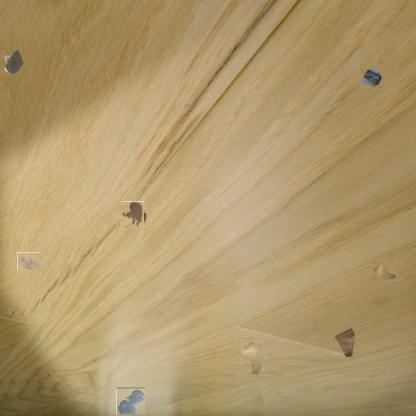dirty: (239, 338, 265, 376), (333, 326, 357, 360), (0, 48, 24, 76), (371, 260, 397, 282), (360, 64, 382, 88), (17, 252, 40, 271)
liquid: (116, 388, 145, 416), (121, 202, 146, 227)
